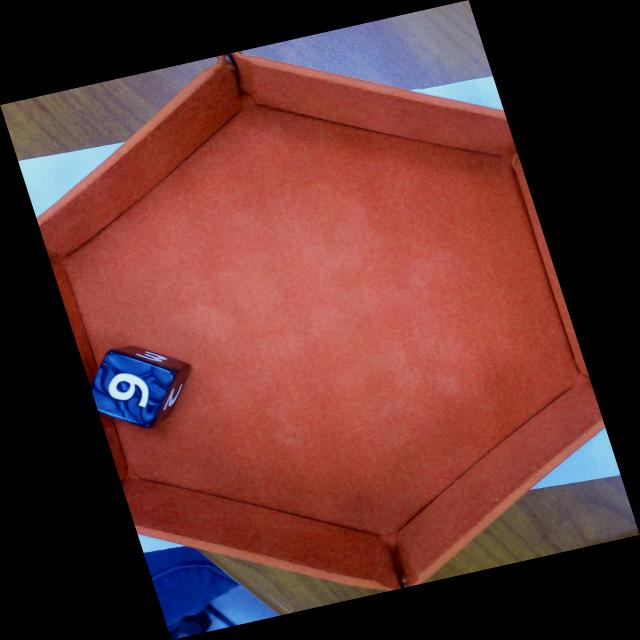dice: (90, 348, 179, 430)
